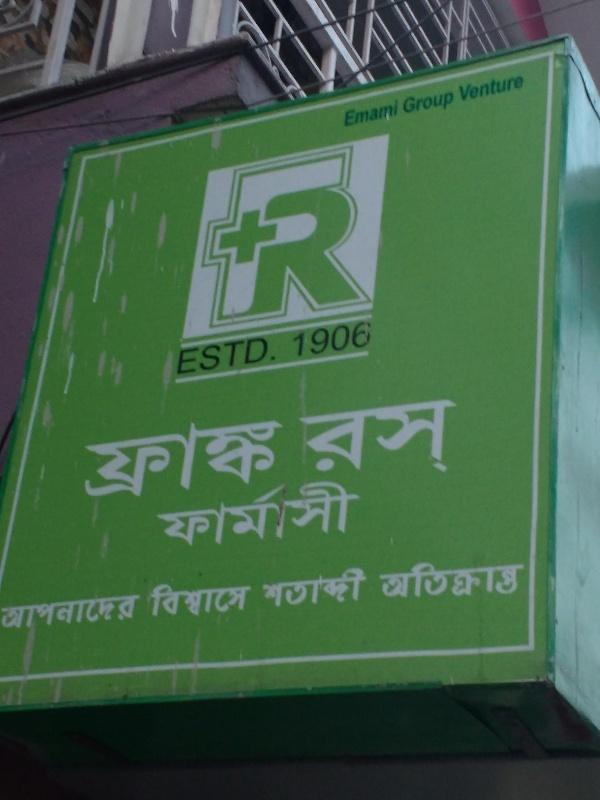text: (273, 178, 288, 318), (289, 178, 304, 318), (305, 178, 320, 318), (321, 178, 336, 318), (337, 178, 352, 318), (353, 178, 368, 318), (262, 178, 272, 318), (97, 414, 112, 505), (113, 414, 128, 505), (129, 414, 144, 505), (145, 414, 160, 505), (161, 414, 176, 505), (177, 414, 192, 505), (193, 414, 208, 505), (209, 414, 224, 505), (225, 414, 240, 505), (241, 414, 256, 505), (257, 414, 272, 505), (273, 414, 288, 505), (161, 470, 176, 551), (177, 470, 192, 551), (193, 470, 208, 551), (209, 470, 224, 551), (225, 470, 240, 551), (241, 470, 256, 551), (257, 470, 272, 551), (273, 470, 288, 551), (289, 470, 304, 551), (305, 470, 320, 551), (321, 470, 336, 551), (337, 470, 352, 551), (305, 397, 320, 476), (321, 397, 336, 476), (337, 397, 352, 476), (353, 397, 368, 476), (369, 397, 384, 476), (385, 397, 400, 476), (401, 397, 416, 476), (417, 397, 432, 476), (433, 397, 448, 476), (84, 414, 96, 505), (353, 470, 364, 551), (294, 397, 304, 476), (273, 561, 288, 609), (289, 561, 304, 609), (305, 561, 320, 609), (321, 561, 336, 609), (337, 561, 352, 609), (353, 561, 368, 609), (385, 554, 400, 601), (401, 554, 416, 601), (417, 554, 432, 601), (433, 554, 448, 601), (449, 554, 464, 601), (465, 554, 480, 601), (481, 554, 496, 601), (497, 554, 512, 601), (177, 333, 192, 379), (193, 333, 208, 379), (209, 333, 224, 379), (225, 333, 240, 379), (241, 333, 256, 379), (305, 316, 320, 360), (321, 316, 336, 360), (337, 316, 352, 360), (353, 316, 368, 360), (1, 591, 16, 634), (17, 591, 32, 634), (33, 591, 48, 634), (49, 591, 64, 634), (65, 591, 80, 634), (81, 591, 96, 634), (97, 591, 112, 634), (113, 591, 128, 634), (129, 591, 144, 634), (259, 561, 272, 609), (161, 578, 176, 619), (177, 578, 192, 619), (193, 578, 208, 619), (209, 578, 224, 619), (225, 578, 240, 619), (513, 554, 526, 601), (465, 66, 480, 106), (481, 66, 496, 106), (497, 66, 512, 106), (513, 66, 528, 106), (257, 333, 270, 379), (153, 470, 160, 551), (449, 397, 456, 476), (451, 66, 464, 106), (353, 95, 368, 127), (369, 95, 384, 127), (385, 95, 400, 127), (149, 578, 160, 619), (241, 578, 251, 619), (401, 89, 416, 116), (417, 89, 432, 116), (433, 89, 448, 116), (295, 316, 304, 360), (376, 554, 384, 601), (369, 316, 377, 360), (343, 95, 352, 127), (449, 89, 459, 116), (369, 561, 371, 609), (289, 414, 290, 505), (398, 89, 400, 116)
